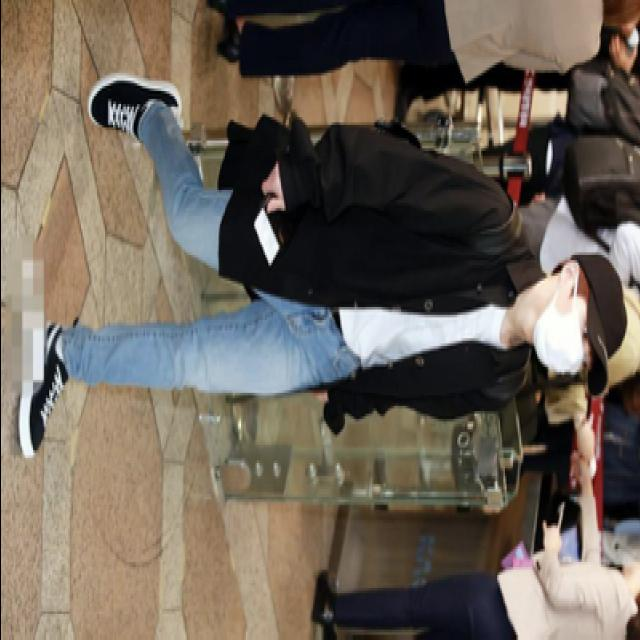with_mask: (530, 296, 590, 374)
